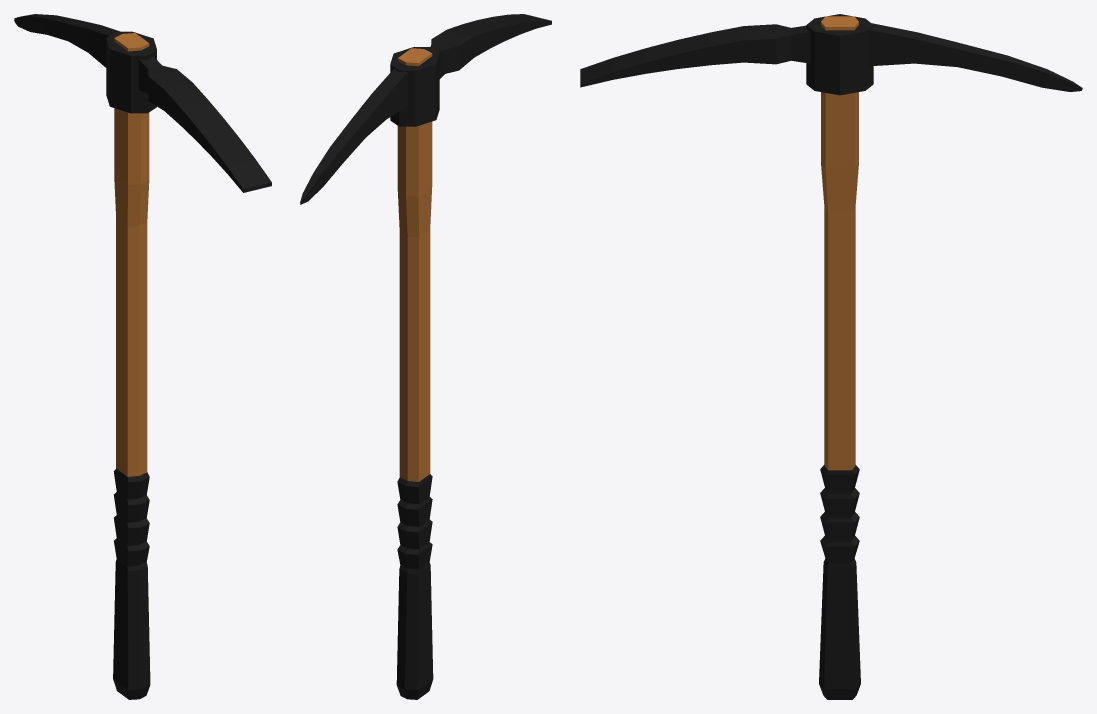
The model's file is Pickaxe.glb.
3 views of the same model, side by side, from view 1: azimuth 30°, elevation 25°; view 2: azimuth 150°, elevation 25°; view 3: azimuth 270°, elevation 25° (orthographic). The views are drawn at different scales.
Visible parts, largest first — view 1: Pickaxe; view 2: Pickaxe; view 3: Pickaxe.
Boxes of the visible parts, bbox=[...] form: Pickaxe: bbox=[14, 14, 271, 699]; Pickaxe: bbox=[300, 14, 551, 699]; Pickaxe: bbox=[580, 14, 1082, 699].
Bounding box in the file's own units: 0.0587 × 0.8367 × 0.5656.
